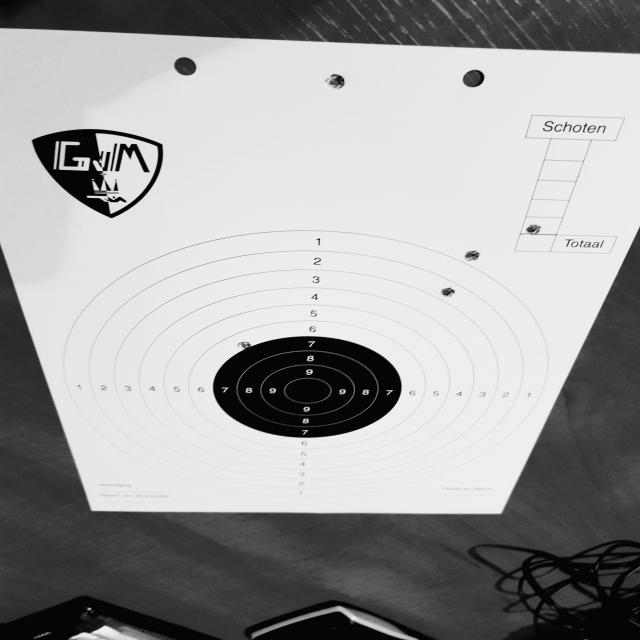0: (324, 73, 346, 90), (524, 224, 542, 236), (464, 250, 481, 261)
2: (438, 286, 456, 298)
7: (236, 341, 252, 351)
Target: (59, 229, 550, 501)
black_contour: (213, 336, 401, 439)
